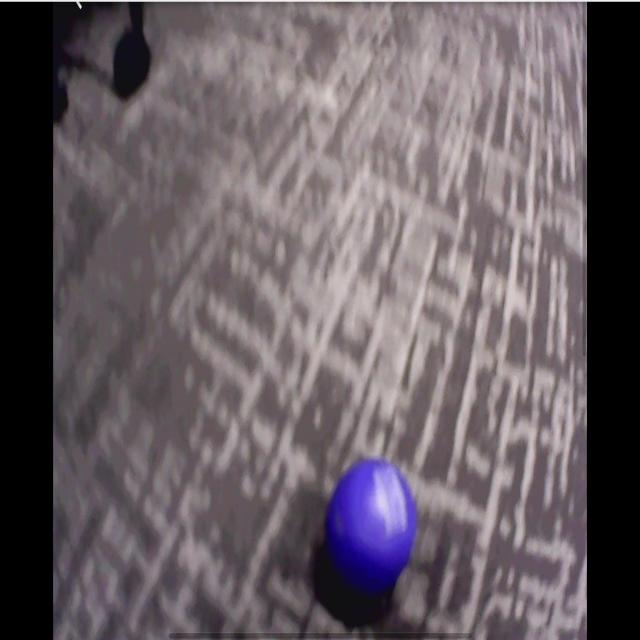ball: (326, 457, 416, 585)
